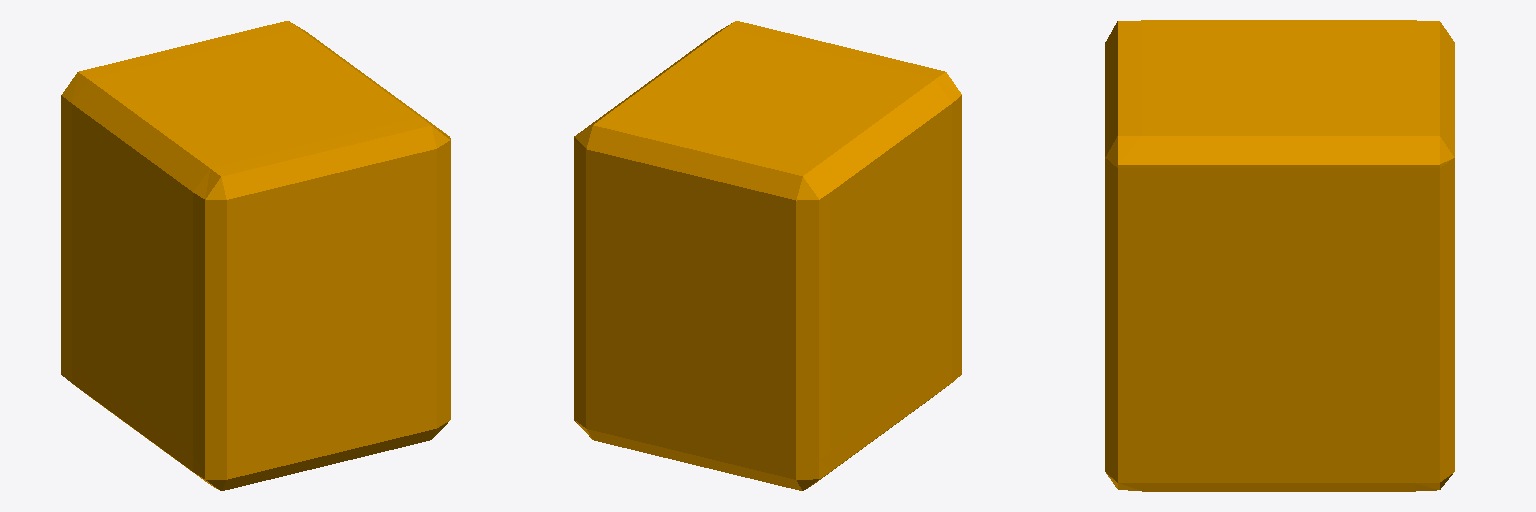
The robot description file, URDF, robot "cylinder_box_73":
<?xml version="1.0" encoding="utf-8"?>  <robot name="cylinder_box_73">   <link name="cylinder_box_73">     <visual>       <geometry>         <mesh filename="../meshes/box/box_73.stl" scale="1 1 1"/>       </geometry>     </visual>     <collision>       <geometry>         <mesh filename="../meshes/box/box_73.stl" scale="1 1 1"/>       </geometry>     </collision>     <inertial>        <origin         xyz="0 0 0"         rpy="0 0 0" />       <mass value="0.35364879322581183"/>       <origin rpy="0 0 0" xyz="0 0 0"/>       <inertia ixx="0.00032434108039276543" ixy="3.6379991550800094e-08" ixz="-1.0273913947481384e-07" iyy="0.0003007261724720754" iyz="3.3956932434283774e-08" izz="0.0002634451748535969"/>     </inertial>   </link>  </robot>

--- Render facts (derived) ---
The picture shows the robot from 3 angles, left to right: view 1: azimuth 30°, elevation 25°; view 2: azimuth 150°, elevation 25°; view 3: azimuth 270°, elevation 25°; orthographic projection.
Model cylinder_box_73 with 1 links and 0 joints (none), rooted at cylinder_box_73, posed every joint at zero.
Links seen in each view (by area): view 1: cylinder_box_73; view 2: cylinder_box_73; view 3: cylinder_box_73.
Boxes of the visible links, x1,y1,x2,y2 form: cylinder_box_73: [61, 21, 450, 490]; cylinder_box_73: [574, 21, 961, 490]; cylinder_box_73: [1105, 20, 1454, 491].
Bounding box of the posed robot: 0.0646 × 0.0705 × 0.0792 m (x, y, z).
Meshes: 1 distinct files referenced, 1 mesh visuals loaded (1 binary STL).